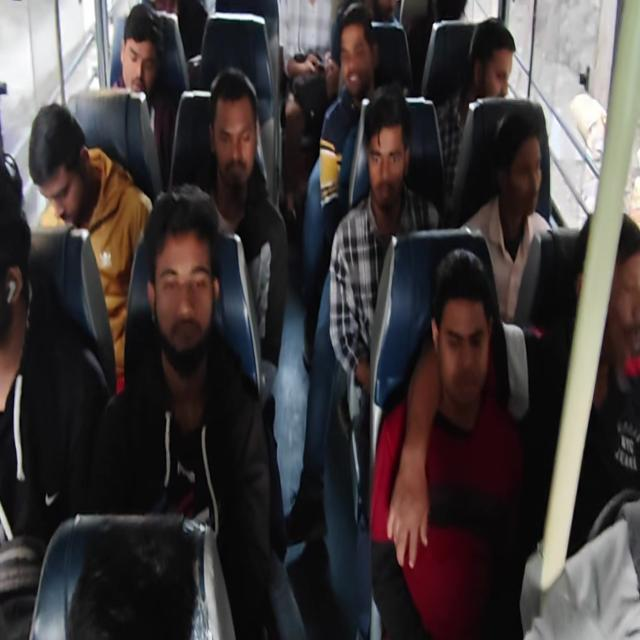person: (152, 221, 212, 370), (429, 284, 493, 412), (21, 120, 87, 225), (205, 88, 268, 195), (593, 234, 640, 374), (0, 163, 27, 346), (474, 18, 515, 114), (116, 8, 158, 100), (506, 121, 544, 209), (366, 118, 400, 215), (336, 18, 375, 95), (426, 0, 476, 24), (364, 0, 404, 27)
